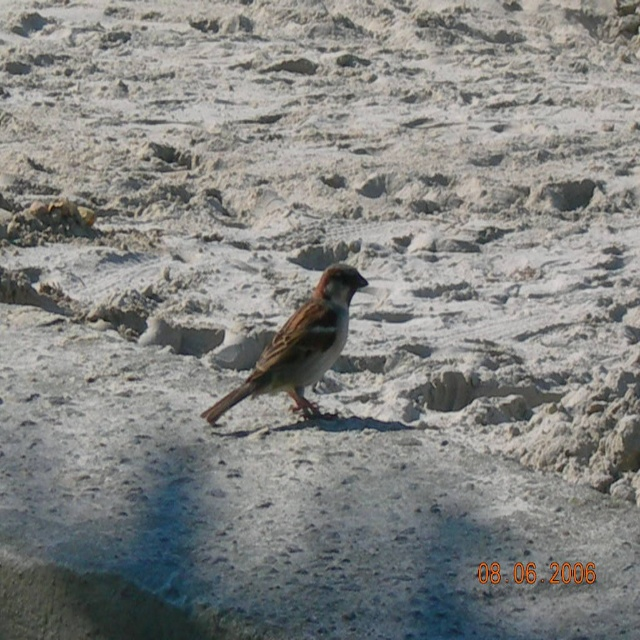Sparrow: (198, 258, 373, 431)
